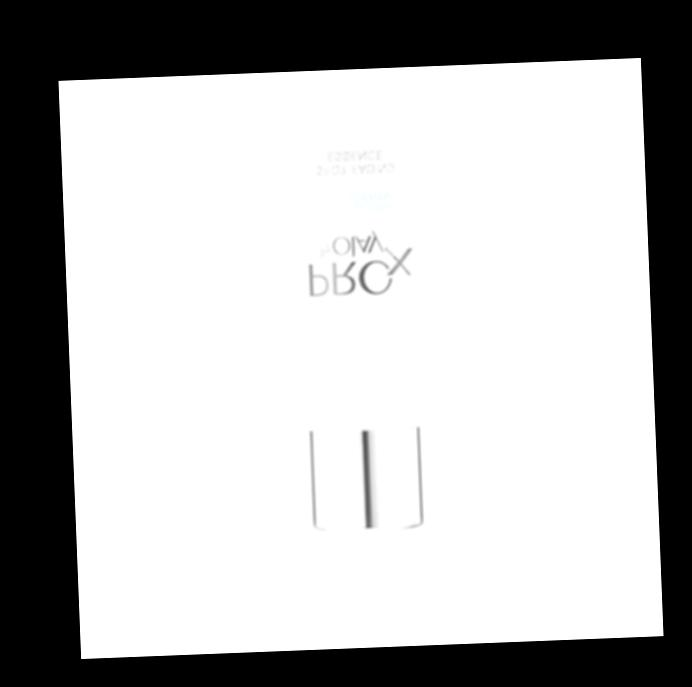cosmetic: (281, 104, 450, 619)
